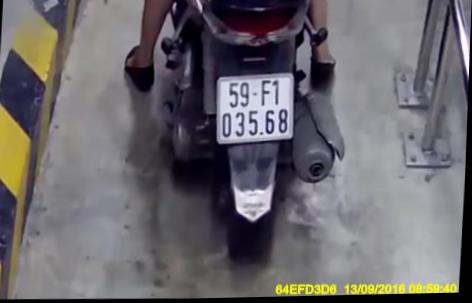LP: (214, 70, 300, 148)
